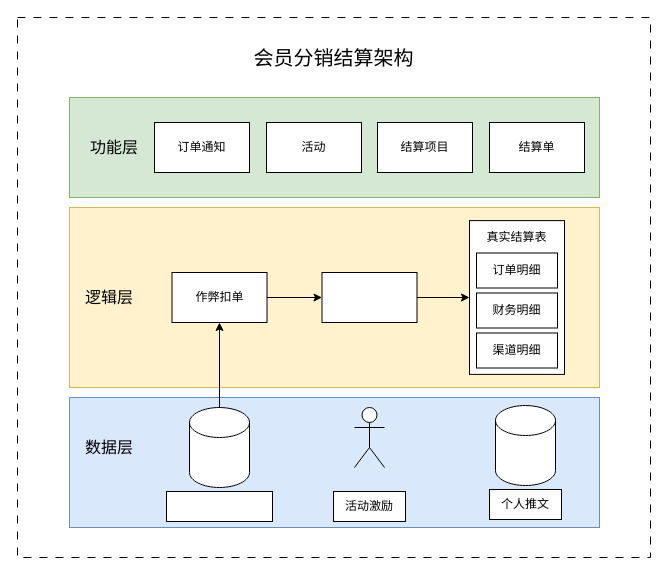
Image size: 668x575. Some labels were removed from this diagram. The centre of each missing label's shape, as x and y in pixels:
"Actor" goes at pixel 369 437.
"Hive" goes at pixel 219 447.
"TIDB" goes at pixel 525 445.
"原始结算表" goes at pixel 369 297.
"基础订单/落地页" goes at pixel 219 506.
